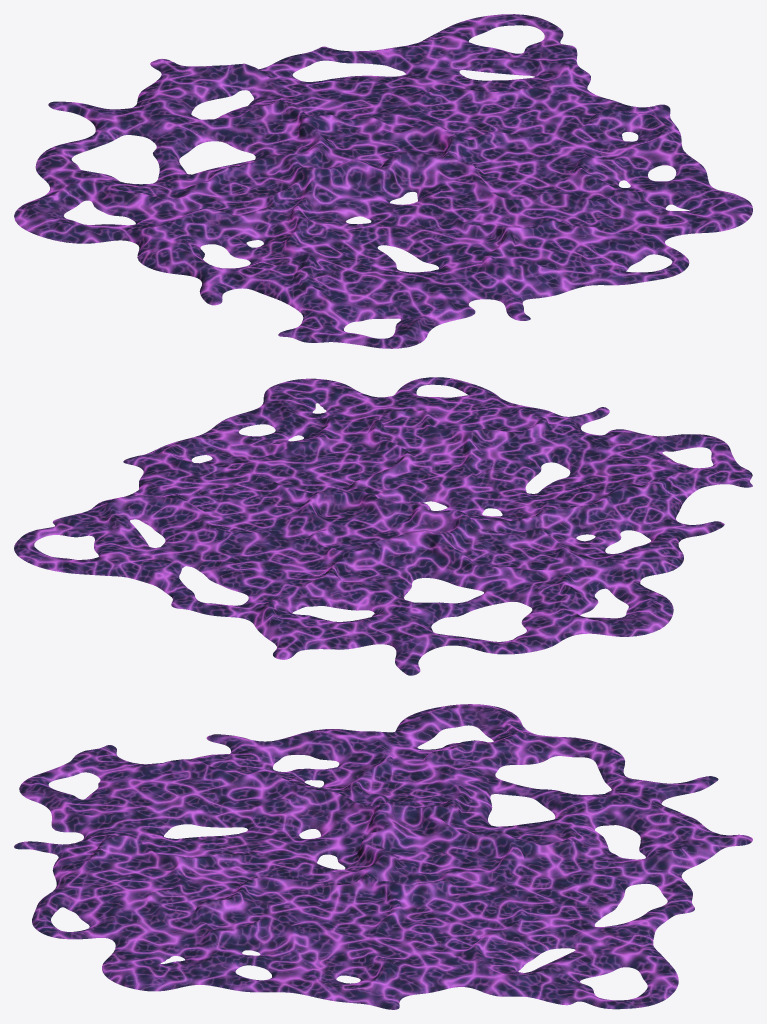
The model's file is caos_stl_chaosgrowth_01a_v35.glb.
3 renders of one model, top to bottom at view 1: azimuth 30°, elevation 25°; view 2: azimuth 150°, elevation 25°; view 3: azimuth 270°, elevation 25°, orthographic. The views are drawn at different scales.
Visible parts, largest first — view 1: caos_stl_chaosgrowth_01a; view 2: caos_stl_chaosgrowth_01a; view 3: caos_stl_chaosgrowth_01a.
Boxes of the visible parts, x1=… form: caos_stl_chaosgrowth_01a: x1=14, y1=14, x2=752, y2=348; caos_stl_chaosgrowth_01a: x1=14, y1=377, x2=752, y2=675; caos_stl_chaosgrowth_01a: x1=14, y1=704, x2=752, y2=1009.
Bounding box in the file's own units: 22.39 × 0.96 × 22.87.
1 material, 1 textured.
